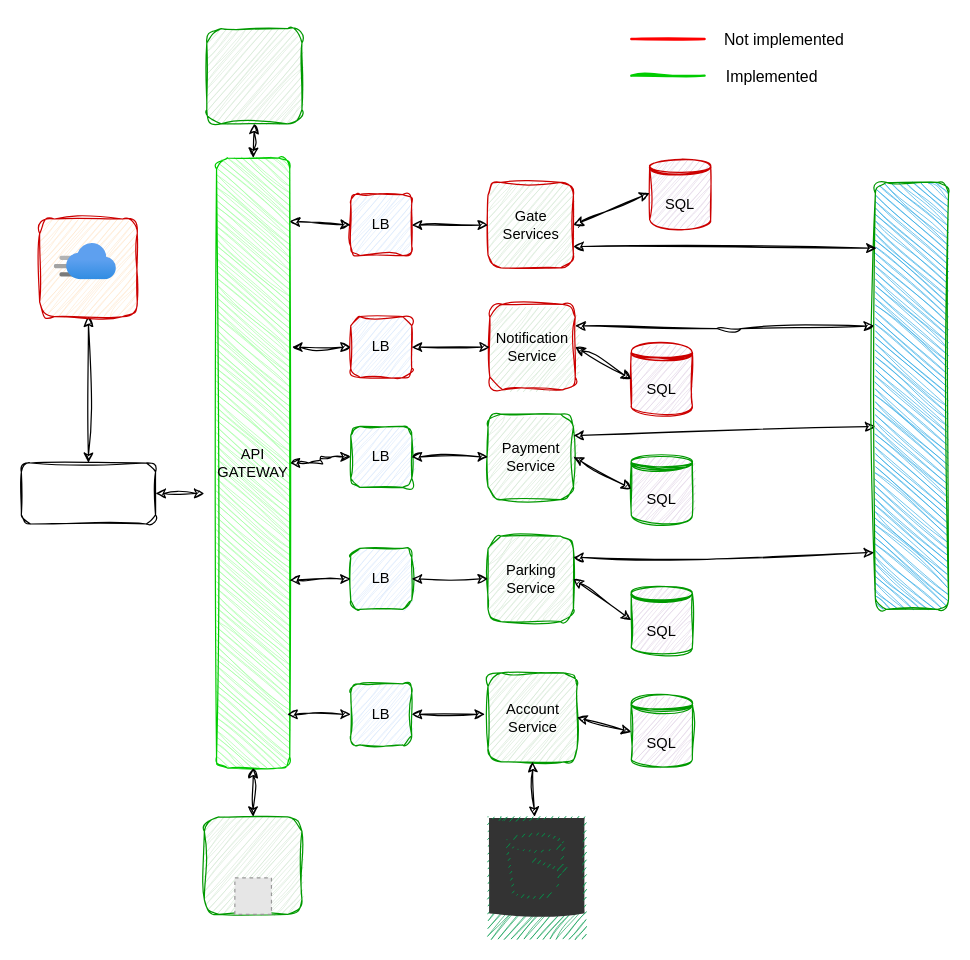
The diagram is 970 pixels wide and 960 high, and some of its shapes have lost their labels. Grey dashed boxes stand in for pictures. The shapes that lost their labels are listed below. From the top down, each one's box as (x1, y1, x2, y2) in pixels, then its label:
(206, 27, 302, 124): Service Discovery
(54, 243, 116, 279): CDN
(874, 181, 949, 609): Kafka
(20, 462, 156, 524): Client
(203, 816, 302, 914): Keycloak
(487, 816, 586, 939): Amazon S3
